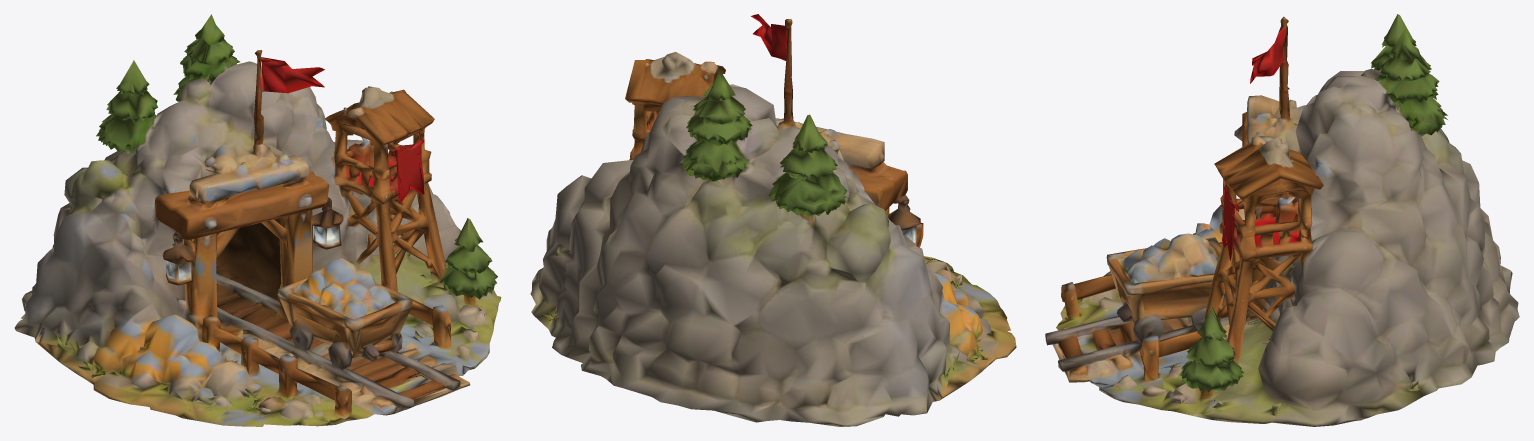
Rendered from maden.glb.
3 views of the same model, side by side, from view 1: azimuth 30°, elevation 25°; view 2: azimuth 150°, elevation 25°; view 3: azimuth 270°, elevation 25° (orthographic). The views are drawn at different scales.
Visible parts, largest first — view 1: tripo_node_6a093f59-5533-4073-8acf-c6948c0713f4; view 2: tripo_node_6a093f59-5533-4073-8acf-c6948c0713f4; view 3: tripo_node_6a093f59-5533-4073-8acf-c6948c0713f4.
Boxes of the visible parts, x1,y1,x2,y2 form: tripo_node_6a093f59-5533-4073-8acf-c6948c0713f4: [14, 14, 501, 426]; tripo_node_6a093f59-5533-4073-8acf-c6948c0713f4: [530, 14, 1016, 426]; tripo_node_6a093f59-5533-4073-8acf-c6948c0713f4: [1045, 14, 1519, 426].
Size of the model in its own units: 0.9803 by 0.6762 by 0.9355.
Materials: 1 (1 with a texture image).
